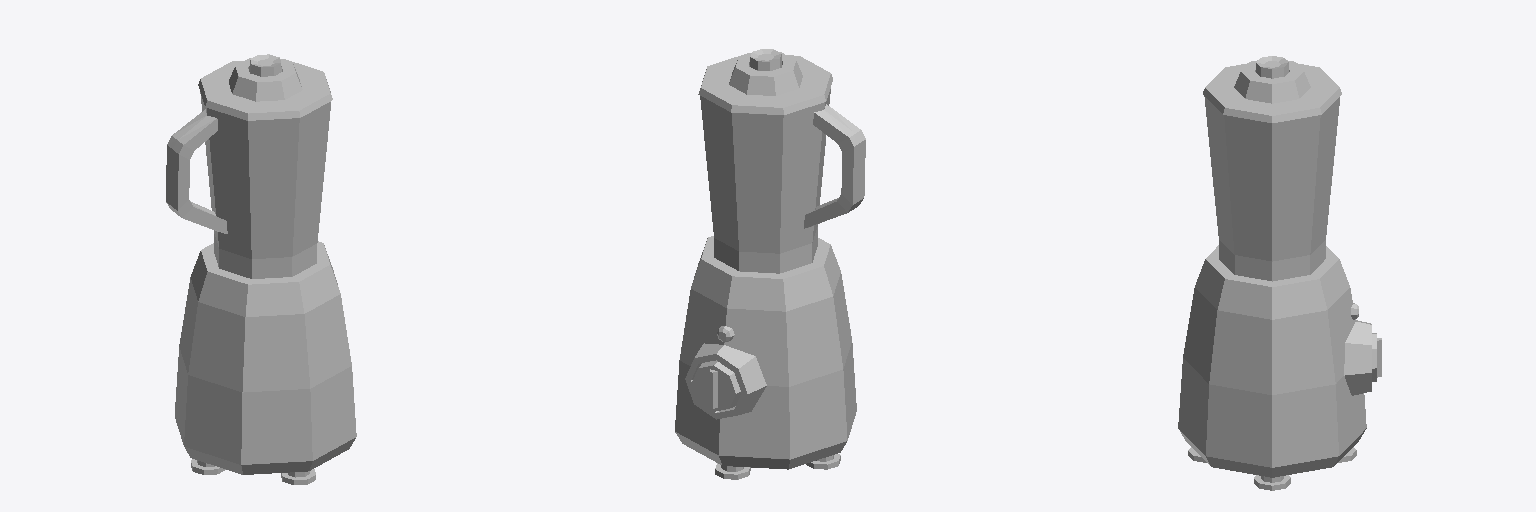
Rendered from appliance_blender.obj.
The picture shows the model from 3 angles: view 1: azimuth 30°, elevation 25°; view 2: azimuth 150°, elevation 25°; view 3: azimuth 270°, elevation 25°; orthographic projection.
Parts seen in each view (by area): view 1: appliance_blender_.001_Cylinder.128, appliance_blender_container_Cylinder.130, appliance_blender_lid_Cylinder.129; view 2: appliance_blender_.001_Cylinder.128, appliance_blender_container_Cylinder.130, appliance_blender_lid_Cylinder.129, appliance_blender_knob_Cylinder.131; view 3: appliance_blender_.001_Cylinder.128, appliance_blender_container_Cylinder.130, appliance_blender_lid_Cylinder.129.
Boxes of the visible parts, <box> form: appliance_blender_.001_Cylinder.128: <box>175,241,356,484</box>; appliance_blender_container_Cylinder.130: <box>166,92,330,278</box>; appliance_blender_lid_Cylinder.129: <box>198,54,332,120</box>; appliance_blender_.001_Cylinder.128: <box>675,236,856,479</box>; appliance_blender_container_Cylinder.130: <box>700,89,865,273</box>; appliance_blender_lid_Cylinder.129: <box>698,49,832,114</box>; appliance_blender_knob_Cylinder.131: <box>692,360,740,411</box>; appliance_blender_.001_Cylinder.128: <box>1178,245,1371,490</box>; appliance_blender_container_Cylinder.130: <box>1204,96,1339,281</box>; appliance_blender_lid_Cylinder.129: <box>1203,56,1341,122</box>.
Size of the model in its own units: 4.4 by 9.43 by 4.43.